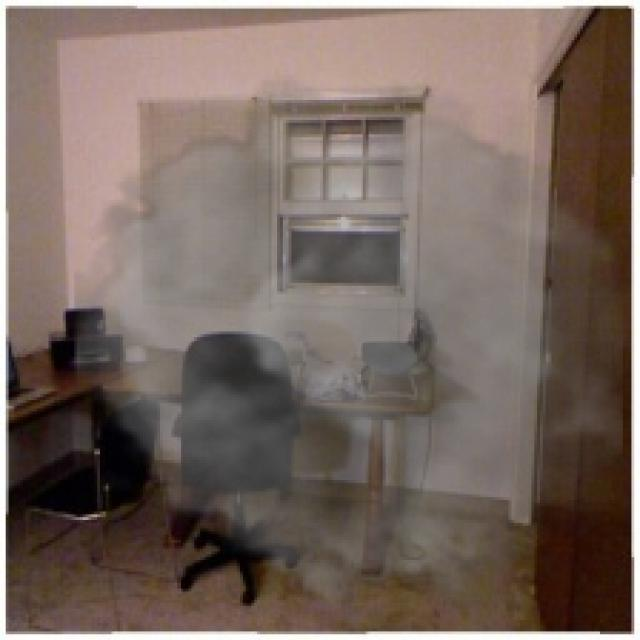Smoke: (74, 74, 623, 632)
